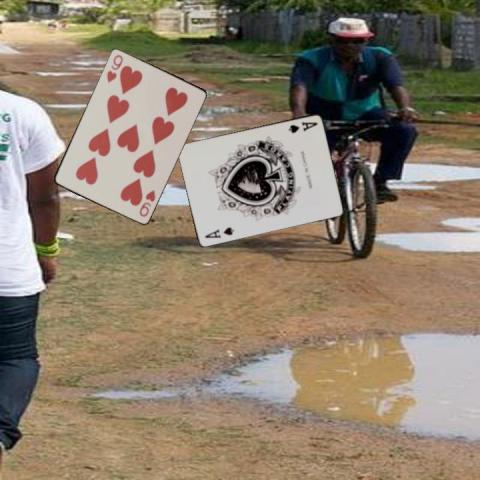9h: (103, 51, 124, 84), (136, 187, 157, 218)
As: (202, 224, 236, 239), (286, 119, 319, 134)
